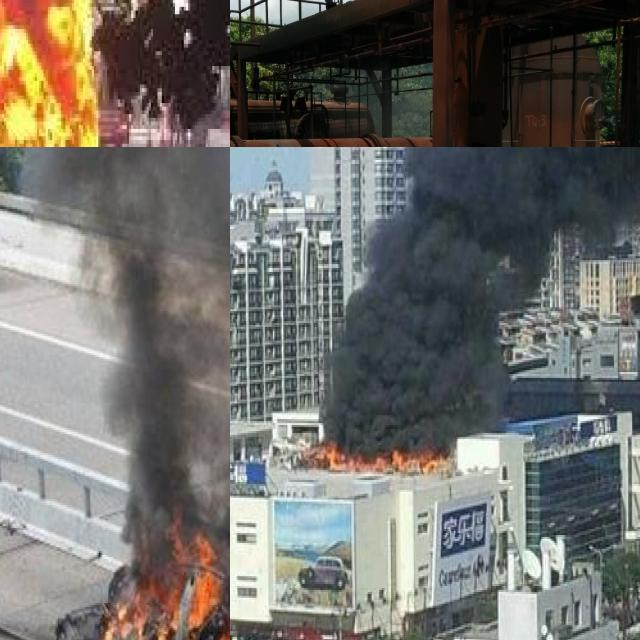fire: (0, 0, 120, 147), (100, 508, 230, 640), (318, 415, 458, 476)
smoke: (325, 147, 640, 448), (12, 147, 230, 572)
